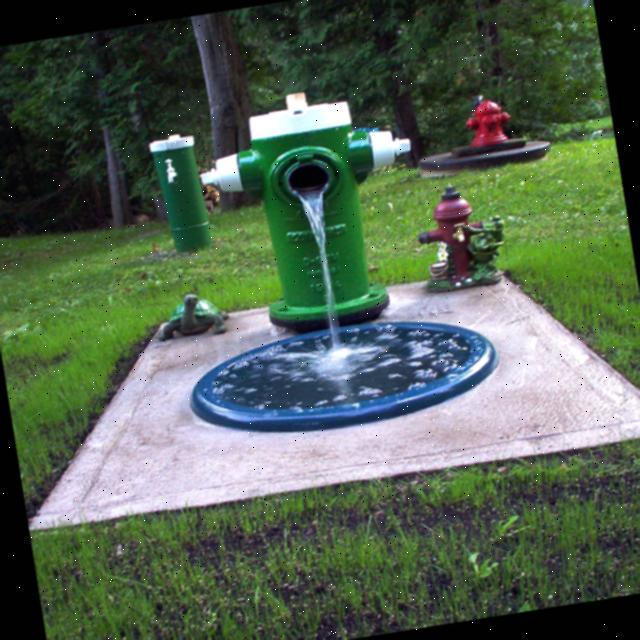fire_hydrant: (188, 67, 449, 343), (148, 131, 220, 257), (410, 180, 492, 287), (461, 94, 517, 148)
